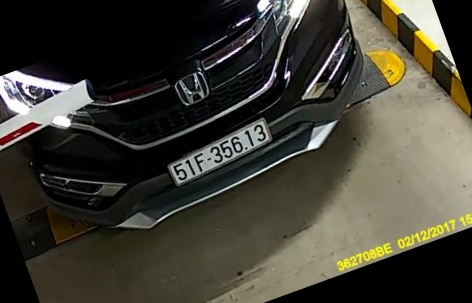plate: (169, 110, 271, 192)
